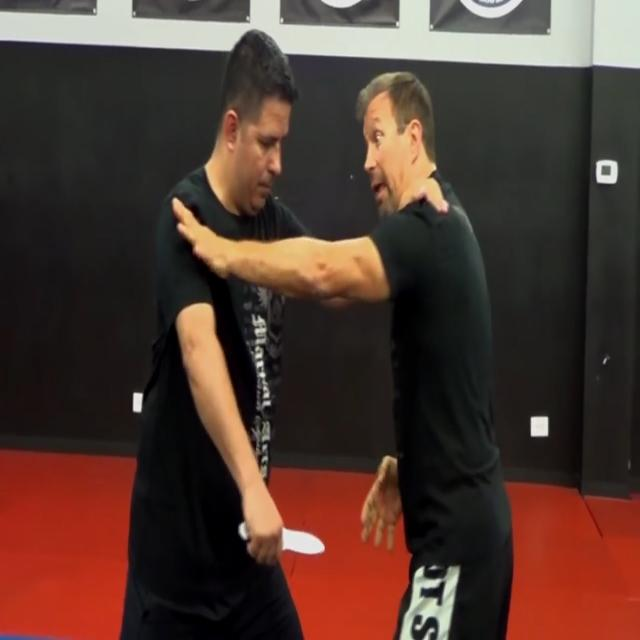knife: (279, 517, 329, 566)
